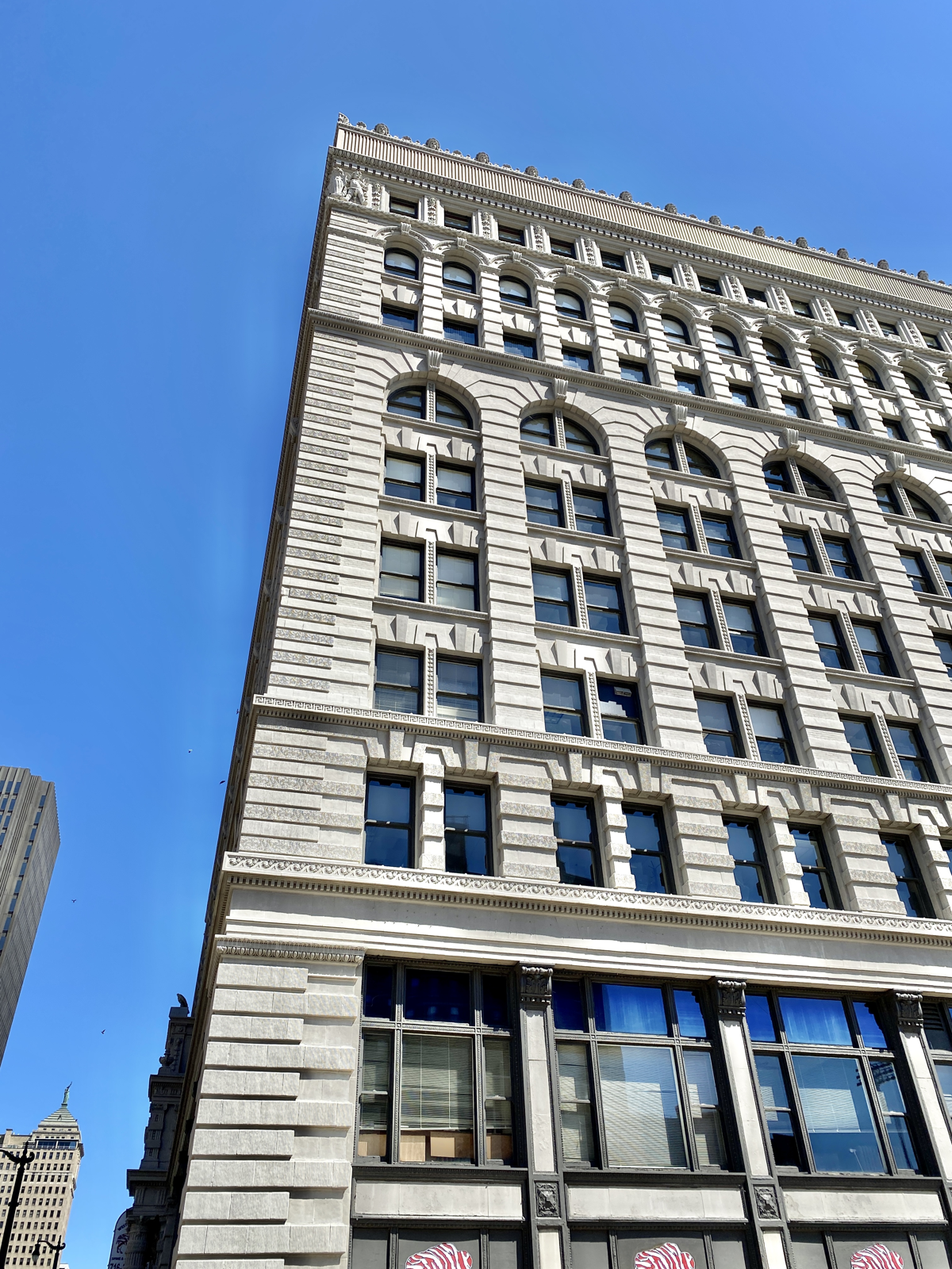fachada: (163, 111, 952, 1269), (4, 761, 79, 1079), (0, 1102, 103, 1269)
